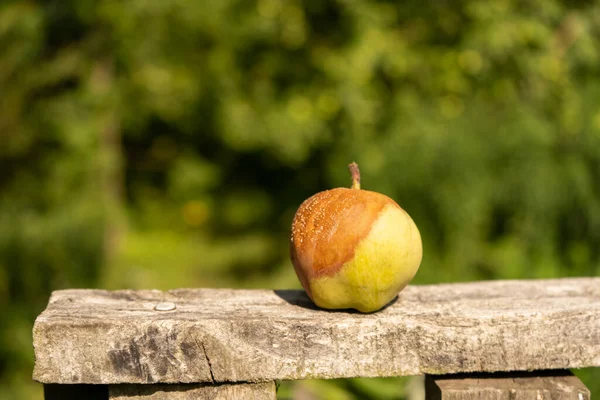apple: (290, 170, 433, 316)
